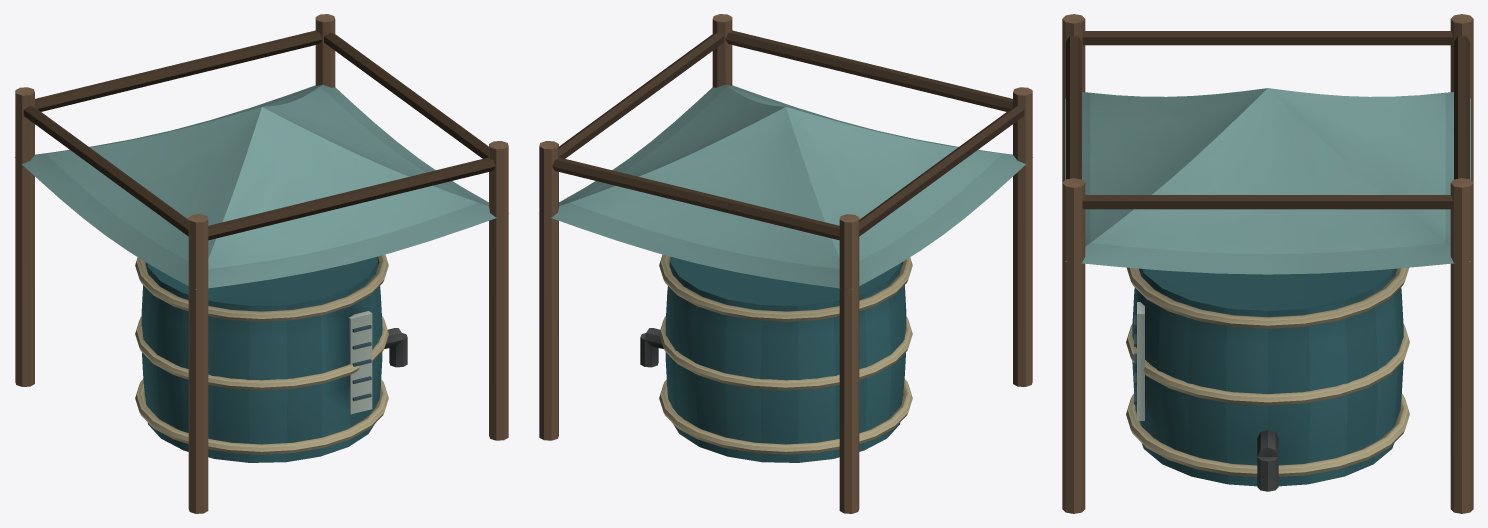
The model's file is collector.glb.
The picture shows the model from 3 angles, left to right: view 1: azimuth 30°, elevation 25°; view 2: azimuth 150°, elevation 25°; view 3: azimuth 270°, elevation 25°; orthographic projection. The views are drawn at different scales.
Visible parts, largest first — view 1: collector; view 2: collector; view 3: collector.
Boxes of the visible parts, box(x1,y1,x2,y2) form: collector: box(14, 14, 509, 513); collector: box(538, 14, 1033, 513); collector: box(1062, 14, 1473, 513).
Size of the model in its own units: 2.33 by 2.15 by 2.33.
